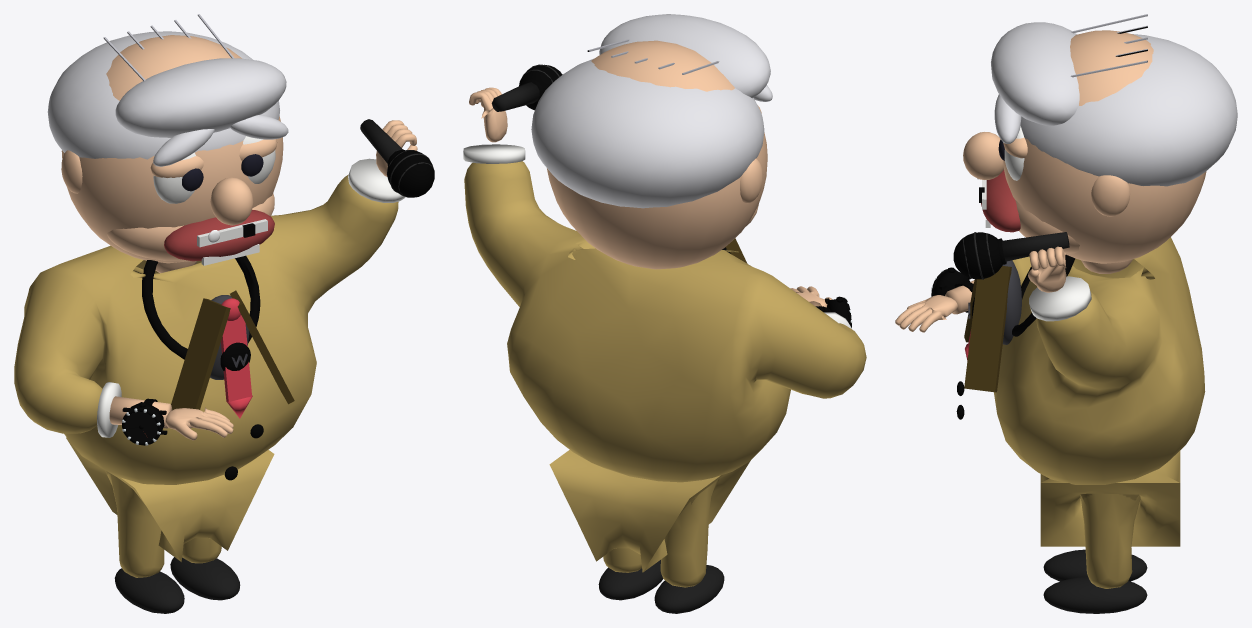
File: TheChairman.fbx
The picture shows the model from 3 angles, left to right: view 1: azimuth 30°, elevation 25°; view 2: azimuth 150°, elevation 25°; view 3: azimuth 270°, elevation 25°; orthographic projection.
Parts seen in each view (by area): view 1: TheChairman.001; view 2: TheChairman.001; view 3: TheChairman.001.
Boxes of the visible parts, left/top/right/bottom form: TheChairman.001: left=14, top=14, right=434, bottom=613; TheChairman.001: left=463, top=14, right=866, bottom=613; TheChairman.001: left=895, top=14, right=1237, bottom=613.
Size of the model in its own units: 181 by 247 by 137.
Materials: 1 (1 with a texture image).
